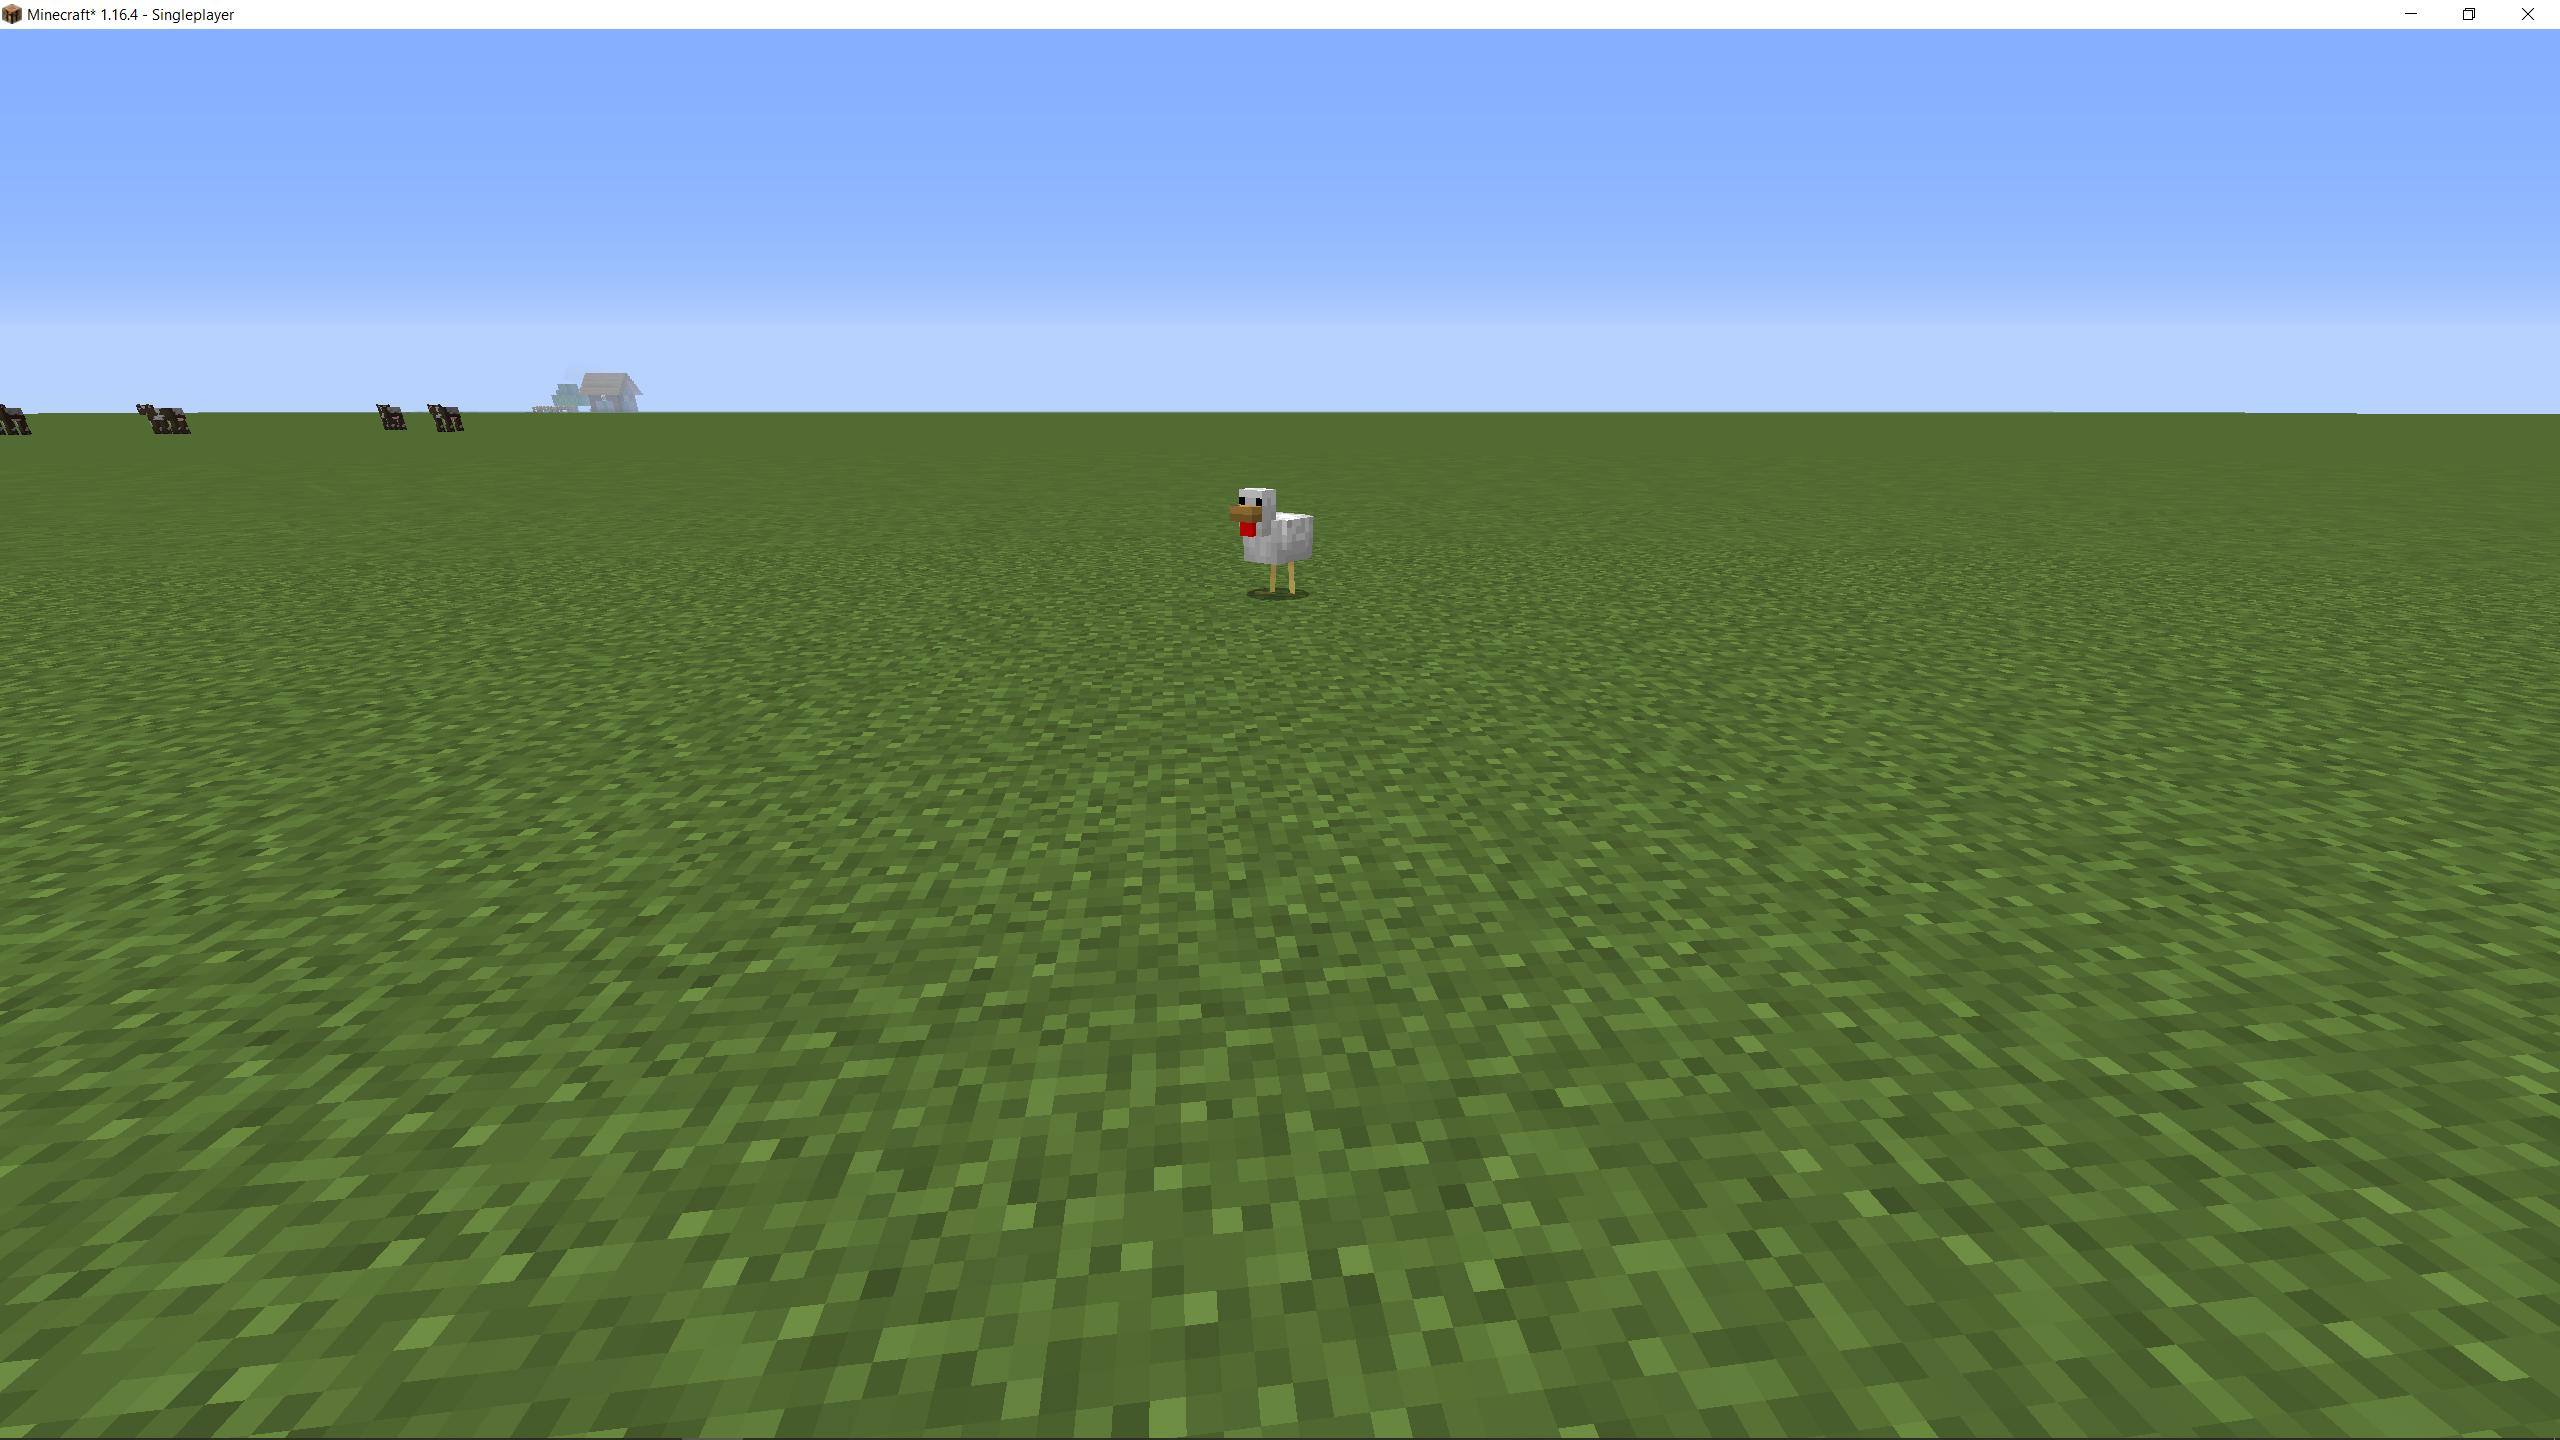chicken: (1222, 484, 1320, 605)
